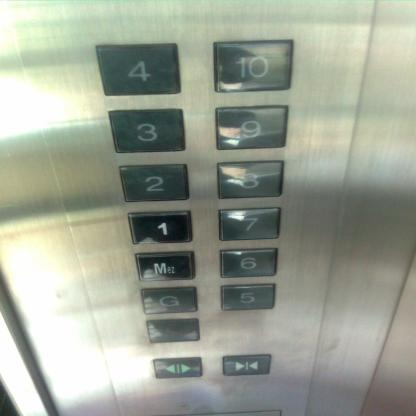1: (125, 209, 195, 245)
10: (210, 38, 297, 94)
2: (118, 162, 190, 204)
3: (107, 105, 187, 155)
4: (93, 40, 184, 97)
5: (219, 282, 276, 312)
6: (218, 246, 280, 279)
7: (215, 204, 283, 242)
8: (214, 157, 288, 201)
9: (213, 102, 290, 153)
G: (138, 286, 200, 315)
close: (220, 352, 271, 378)
empty: (146, 316, 200, 346)
open: (149, 355, 205, 381)
text_Mez: (132, 248, 196, 284)
